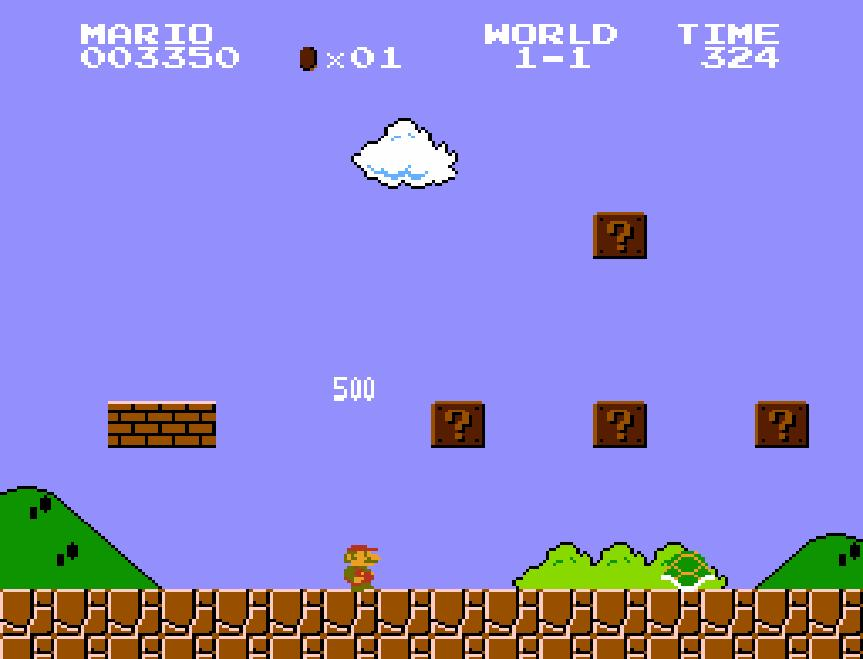little_mario: (332, 544, 390, 594)
